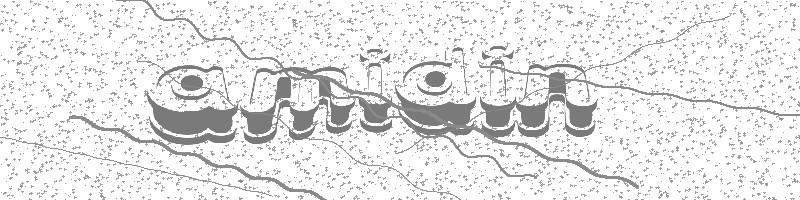a: (146, 64, 238, 146)
d: (396, 47, 477, 138)
i: (479, 44, 515, 138), (358, 47, 395, 134)
m: (238, 67, 357, 145)
n: (514, 63, 599, 138)
